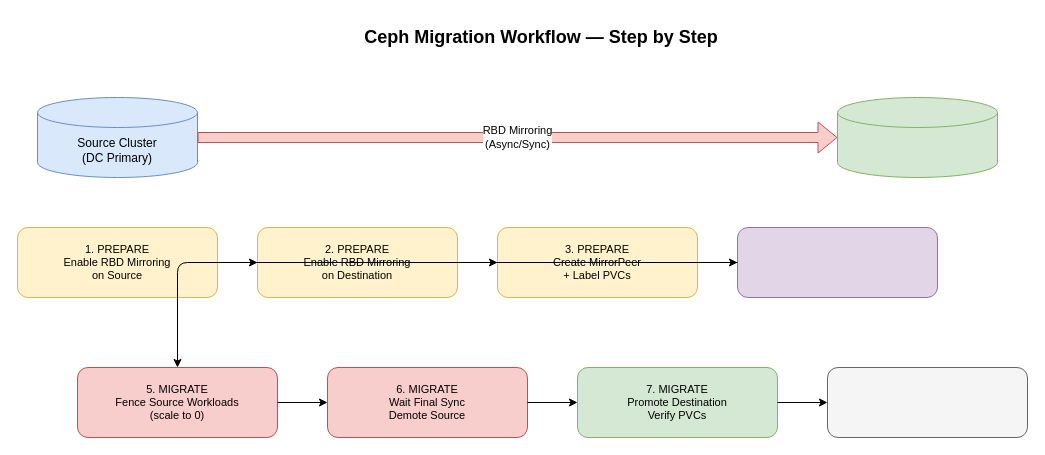
Some shapes in this 1045 by 455 pixel diagram are drawn without their labels. Each missing label, with the box of its shape:
4. VALIDATE Check sync status daemon & image health: (736, 226, 938, 298)
8. CLEANUP Remove Mirroring Delete MirrorPeer: (826, 366, 1028, 438)
Destination Cluster (DR Secondary): (836, 96, 998, 178)
